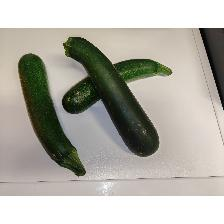Zucchini: (62, 36, 160, 159), (16, 52, 86, 177), (62, 58, 174, 118)
